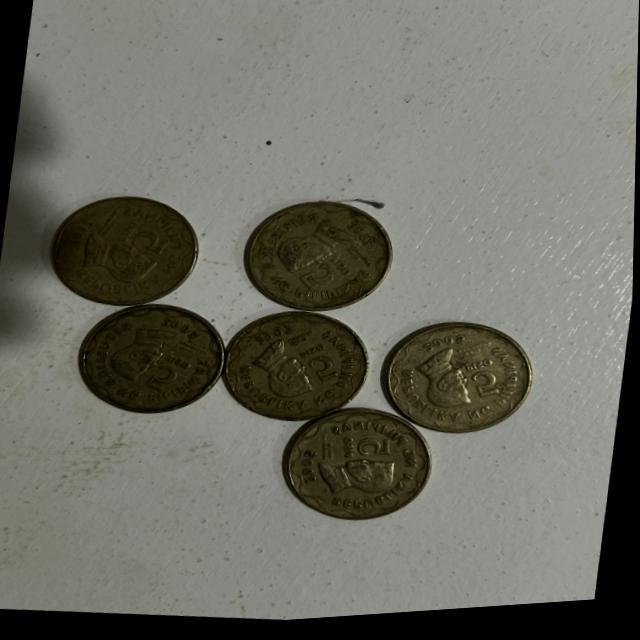5_Old_Front: (288, 249, 353, 301), (142, 348, 201, 404), (108, 215, 173, 263), (455, 355, 509, 410), (286, 340, 344, 388), (341, 432, 398, 476)
